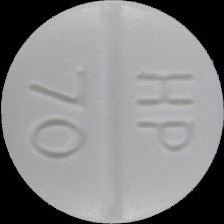52125-779: (0, 0, 224, 224)
